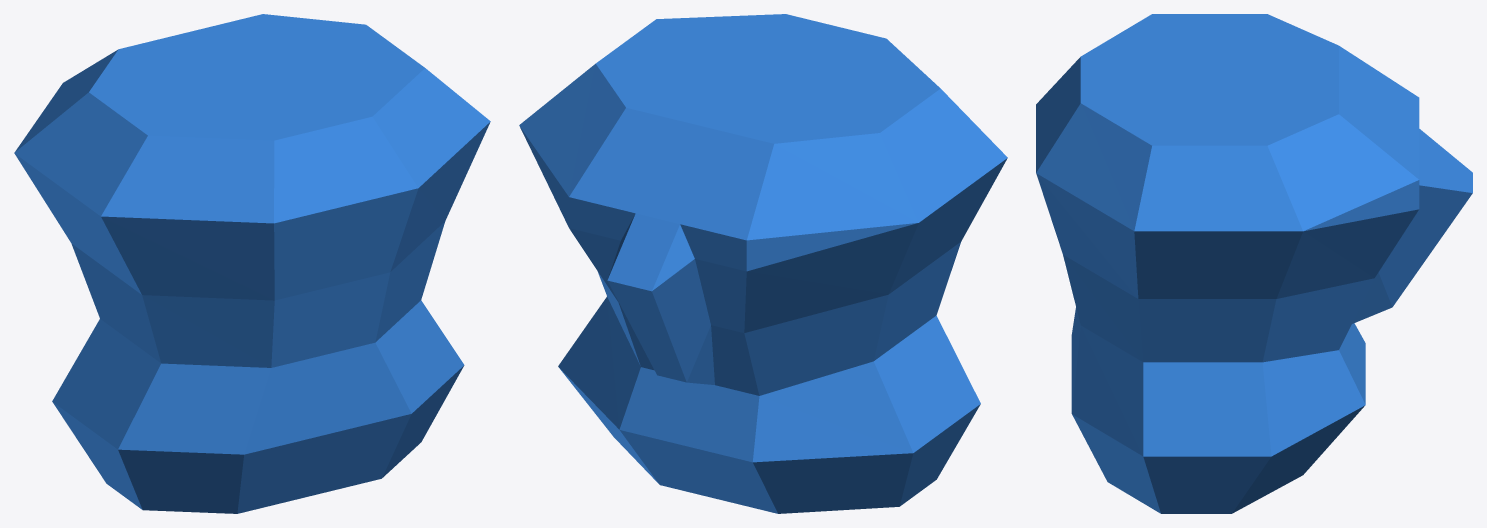
The model's file is body.FBX.
3 views of the same model, side by side, from view 1: azimuth 30°, elevation 25°; view 2: azimuth 150°, elevation 25°; view 3: azimuth 270°, elevation 25° (orthographic). The views are drawn at different scales.
Visible parts, largest first — view 1: VIFS001; view 2: VIFS001; view 3: VIFS001.
Boxes of the visible parts, bbox=[...] form: VIFS001: bbox=[14, 14, 490, 513]; VIFS001: bbox=[519, 14, 1007, 513]; VIFS001: bbox=[1036, 14, 1472, 513].
Bounding box in the file's own units: 0.54 × 0.5 × 0.538.
